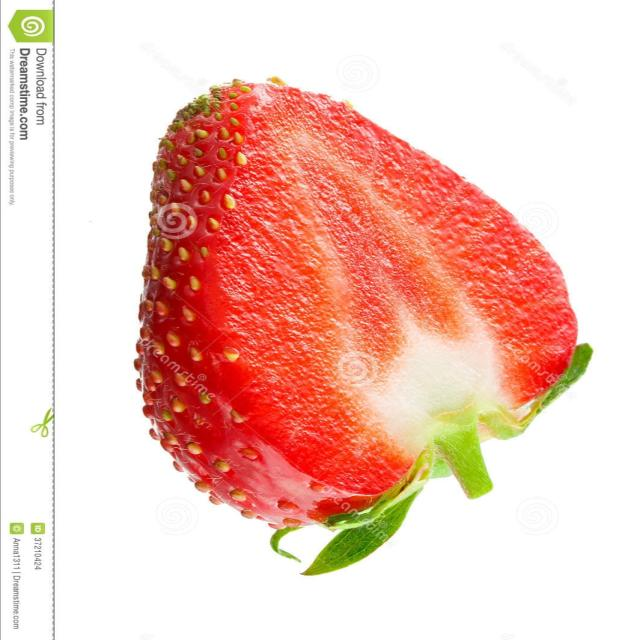strawberry: (115, 47, 596, 555)
